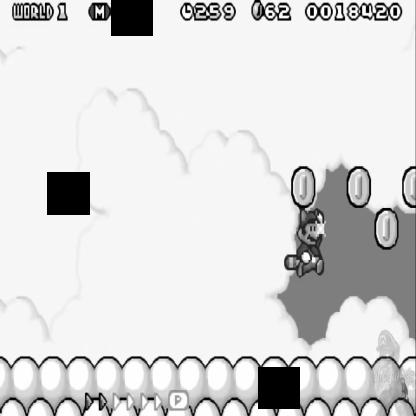Mario: (285, 209, 328, 278)
moneda: (291, 163, 320, 209), (346, 168, 374, 208), (373, 210, 401, 248), (401, 162, 416, 214), (250, 0, 265, 25)
